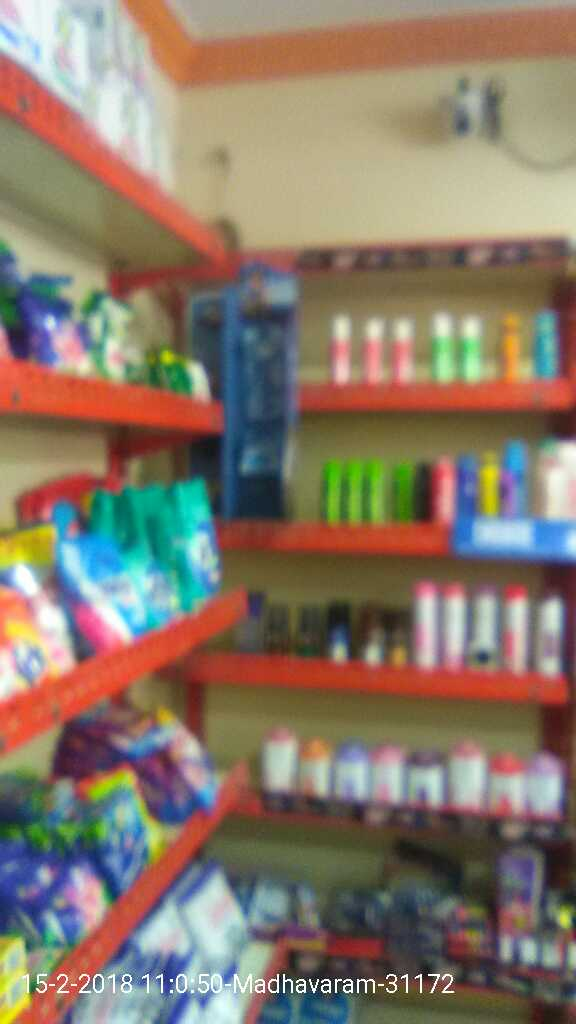reject: (328, 553, 417, 663)
